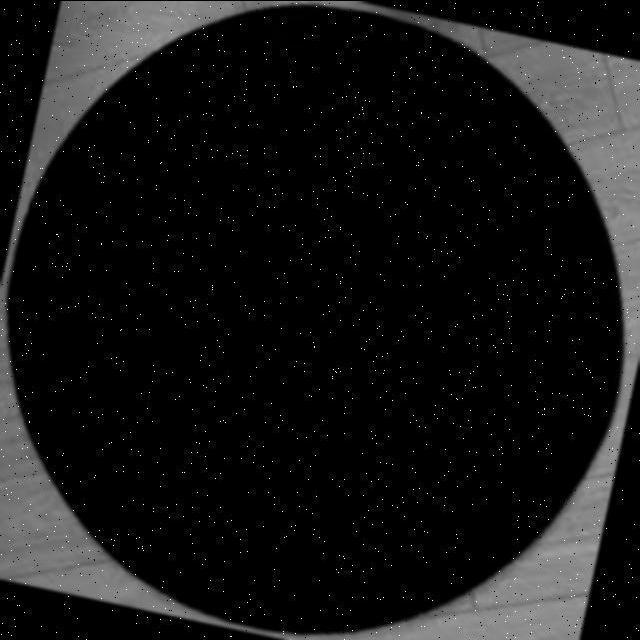Circle: (2, 0, 634, 640)
